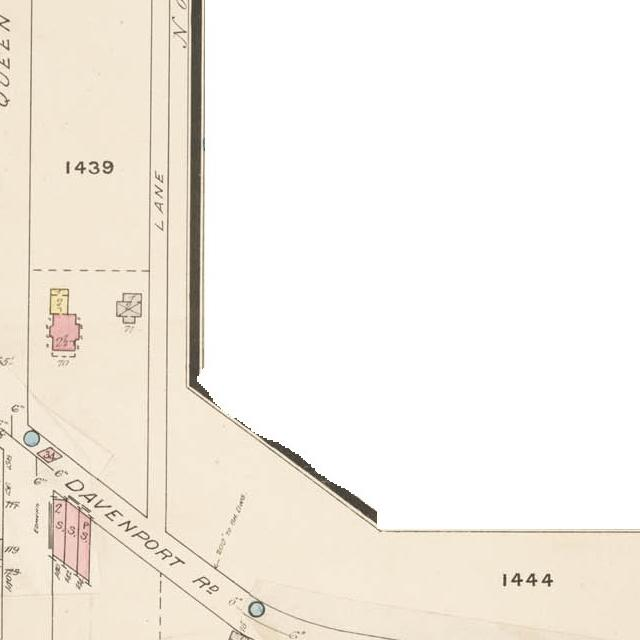building-footprints: (50, 289, 80, 350), (64, 499, 79, 572), (77, 510, 91, 582), (53, 499, 65, 562), (117, 293, 142, 322)
